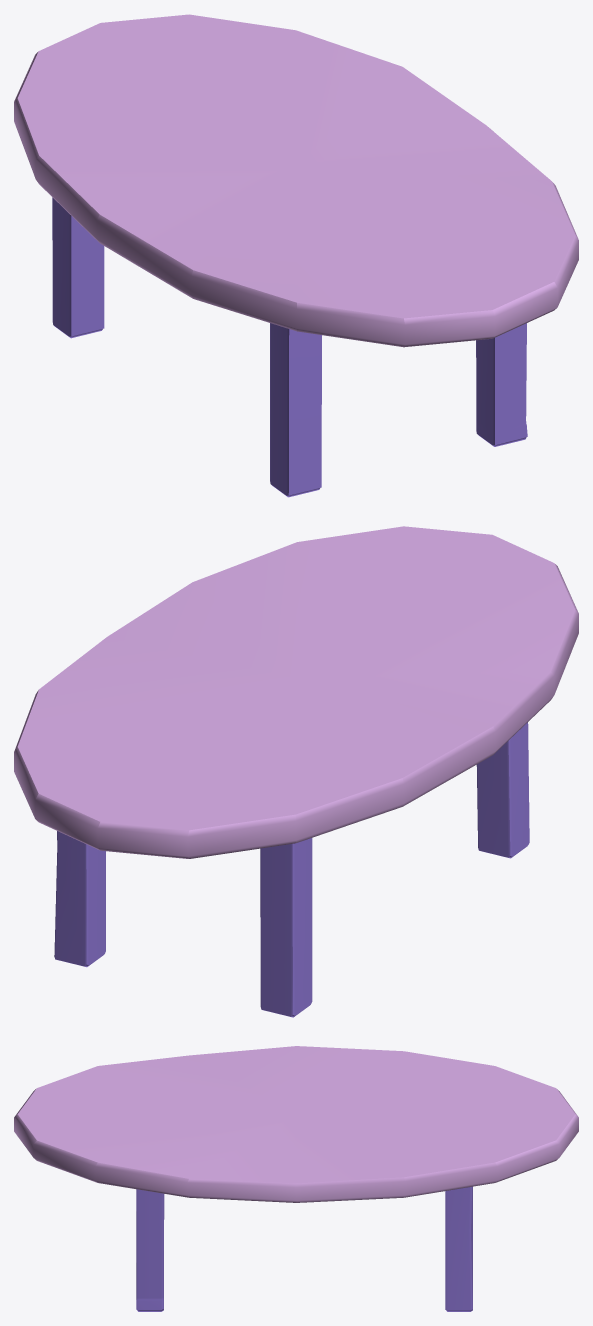
The model's file is Friday_House_Table.fbx.
3 renders of one model, top to bottom at view 1: azimuth 30°, elevation 25°; view 2: azimuth 150°, elevation 25°; view 3: azimuth 270°, elevation 25°, orthographic. The views are drawn at different scales.
Parts seen in each view (by area): view 1: Tabletop, Legs; view 2: Tabletop, Legs; view 3: Tabletop, Legs.
Part boxes in pixels (x1,y1,x2,y2): Tabletop: (14,14,578,347); Legs: (52,197,527,497); Tabletop: (14,526,578,858); Legs: (54,722,529,1017); Tabletop: (14,1046,578,1202); Legs: (136,1186,472,1311).
Size of the model in its own units: 256 by 135 by 442.
